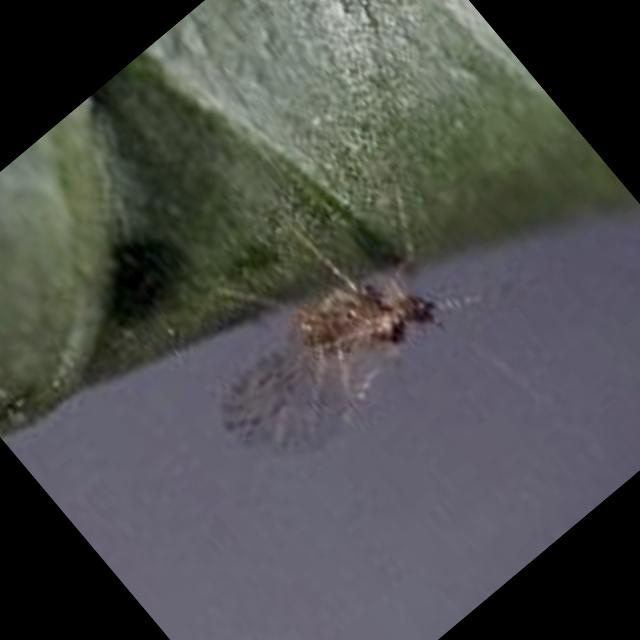Green peach aphid: (106, 121, 558, 558)
